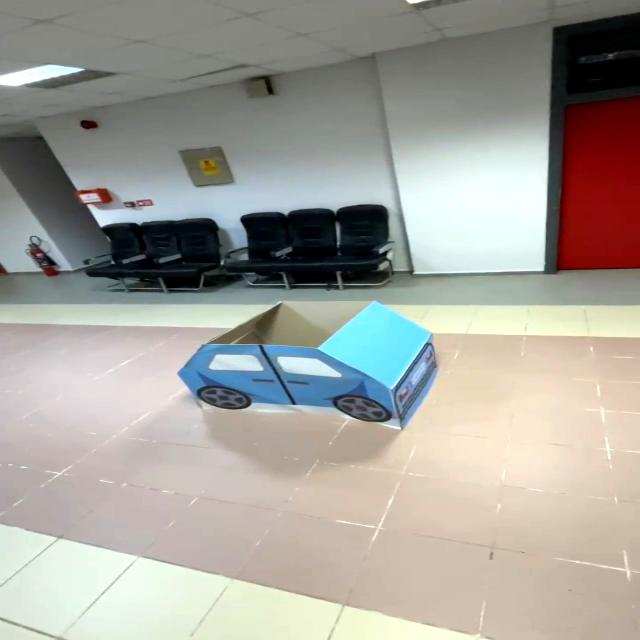blue_car: (160, 289, 471, 463)
